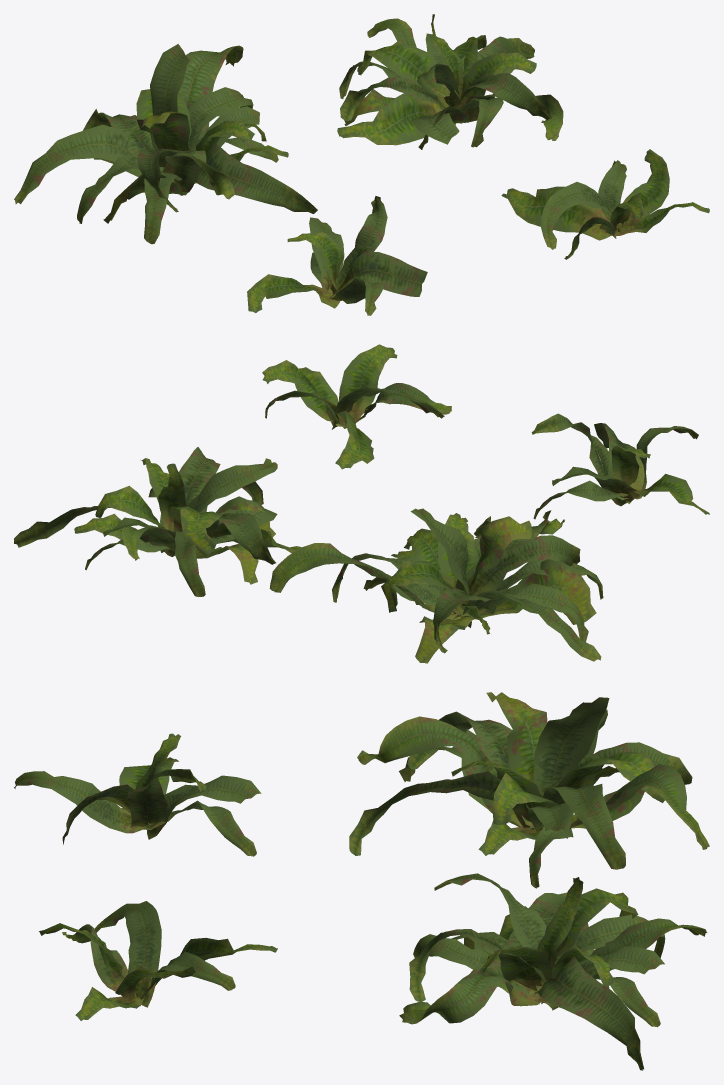
File: fern_02.gltf
The picture shows the model from 3 angles, top to bottom: view 1: azimuth 30°, elevation 25°; view 2: azimuth 150°, elevation 25°; view 3: azimuth 270°, elevation 25°; orthographic projection. The views are drawn at different scales.
Parts seen in each view (by area): view 1: fern_02_b, fern_02_c, fern_02_d, fern_02_a; view 2: fern_02_b, fern_02_c, fern_02_d, fern_02_a; view 3: fern_02_b, fern_02_c, fern_02_a, fern_02_d.
Part boxes in pixels (<box>): fern_02_b: <box>14,44,317,244</box>; fern_02_c: <box>337,14,563,149</box>; fern_02_d: <box>501,149,709,259</box>; fern_02_a: <box>247,196,427,315</box>; fern_02_b: <box>269,508,603,663</box>; fern_02_c: <box>14,447,301,596</box>; fern_02_d: <box>262,344,451,469</box>; fern_02_a: <box>531,413,709,519</box>; fern_02_b: <box>349,692,709,888</box>; fern_02_c: <box>399,873,707,1070</box>; fern_02_a: <box>14,733,261,856</box>; fern_02_d: <box>39,901,277,1020</box>.
Size of the model in its own units: 1.97 by 0.4277 by 1.72.
1 material, 1 textured.
